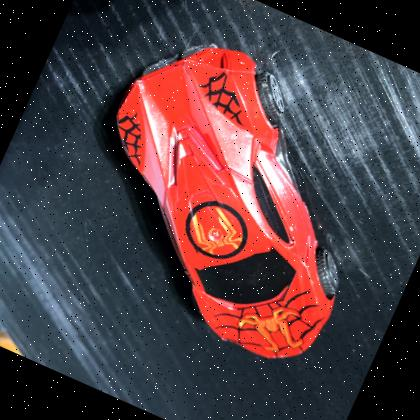Car: (35, 7, 420, 387)
